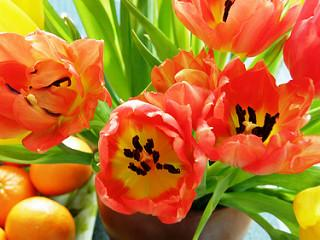tulip: (197, 57, 320, 176), (0, 31, 112, 153), (97, 91, 204, 213)
